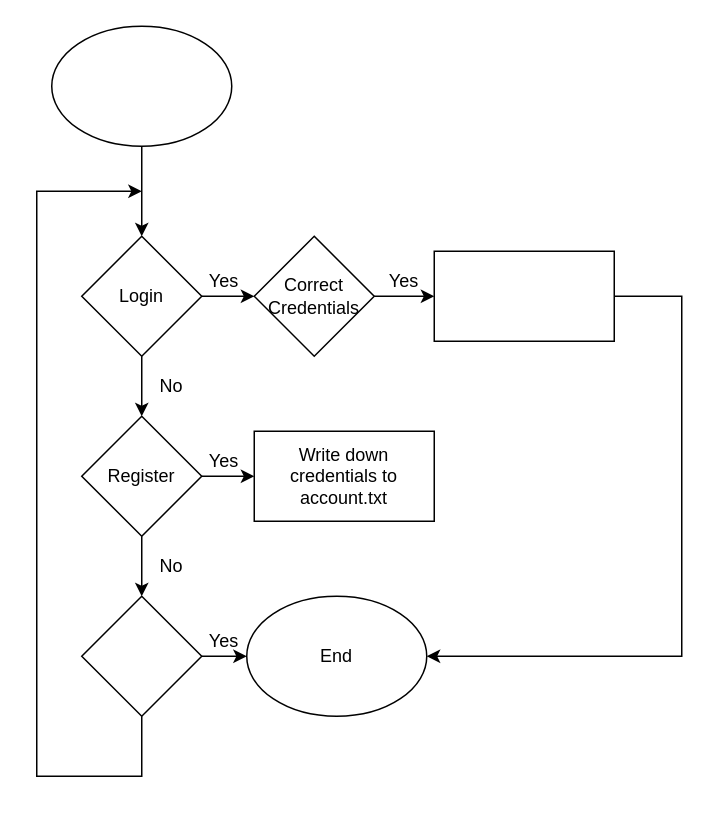
Image size: 720x815. Some labels were removed from this diagram. The centre of each missing label's shape, as x and y in pixels:
"Begin" goes at (x=141, y=85).
"Exit" goes at (x=141, y=655).
"Open Client.vi and Server.vi" goes at (x=523, y=295).
